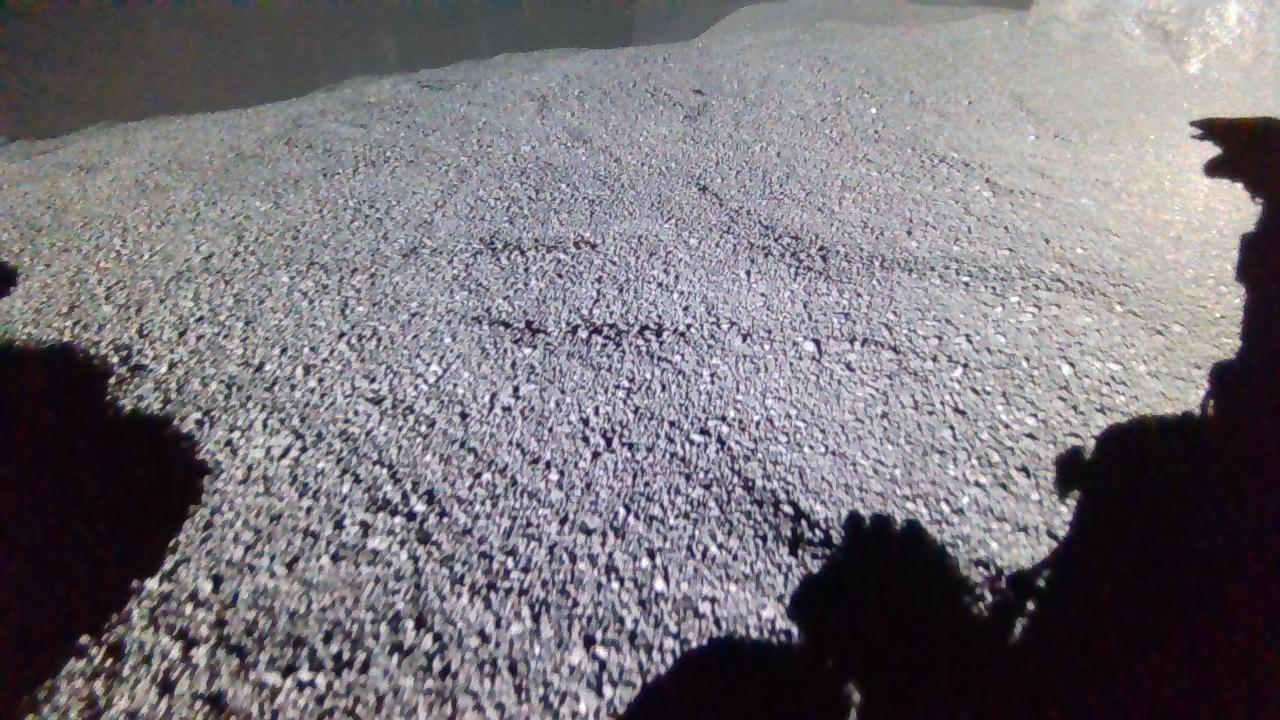rock: (1026, 0, 1280, 80)
